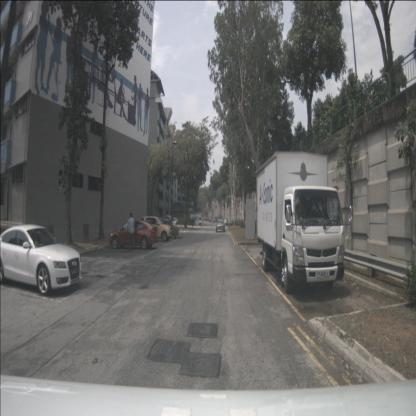human-pedestrian-adult: (127, 212, 135, 251)
vehicle-car: (0, 224, 83, 296), (109, 219, 159, 250), (135, 217, 172, 242), (216, 219, 225, 232), (191, 218, 203, 226), (164, 216, 172, 225), (170, 218, 178, 226)
vehicle-truck: (256, 151, 345, 295)
